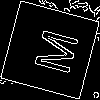M: (25, 25, 79, 77)
